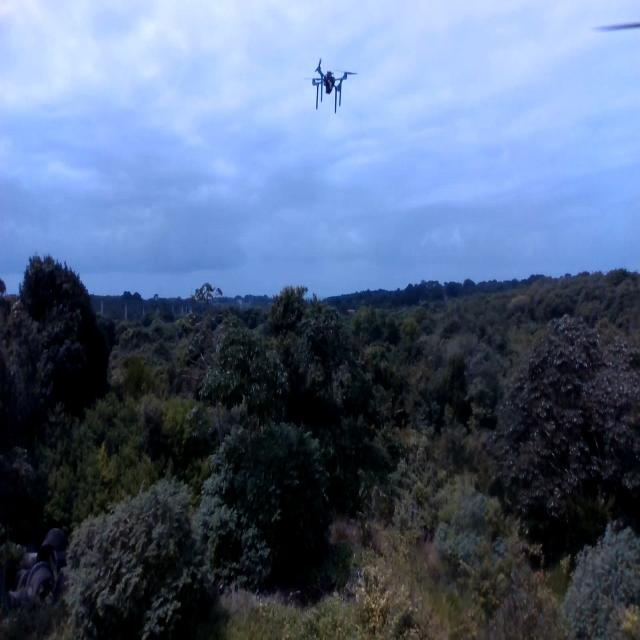-uav-: (300, 51, 363, 123)
